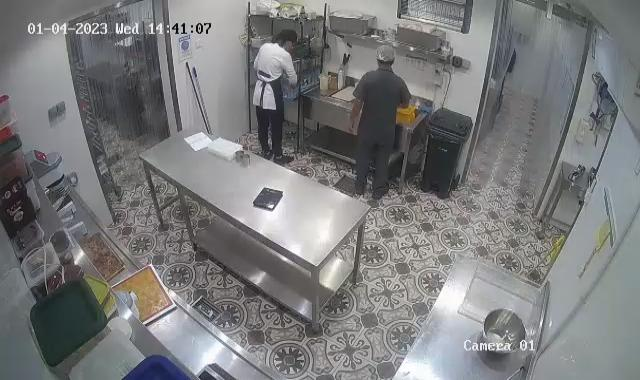hairnet: (376, 45, 397, 71)
no_hairnet: (281, 27, 297, 51)
